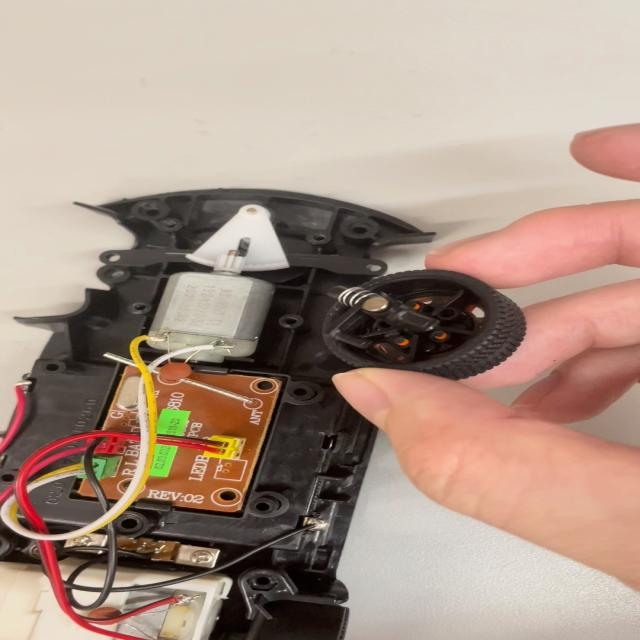wheel: (315, 265, 495, 361)
